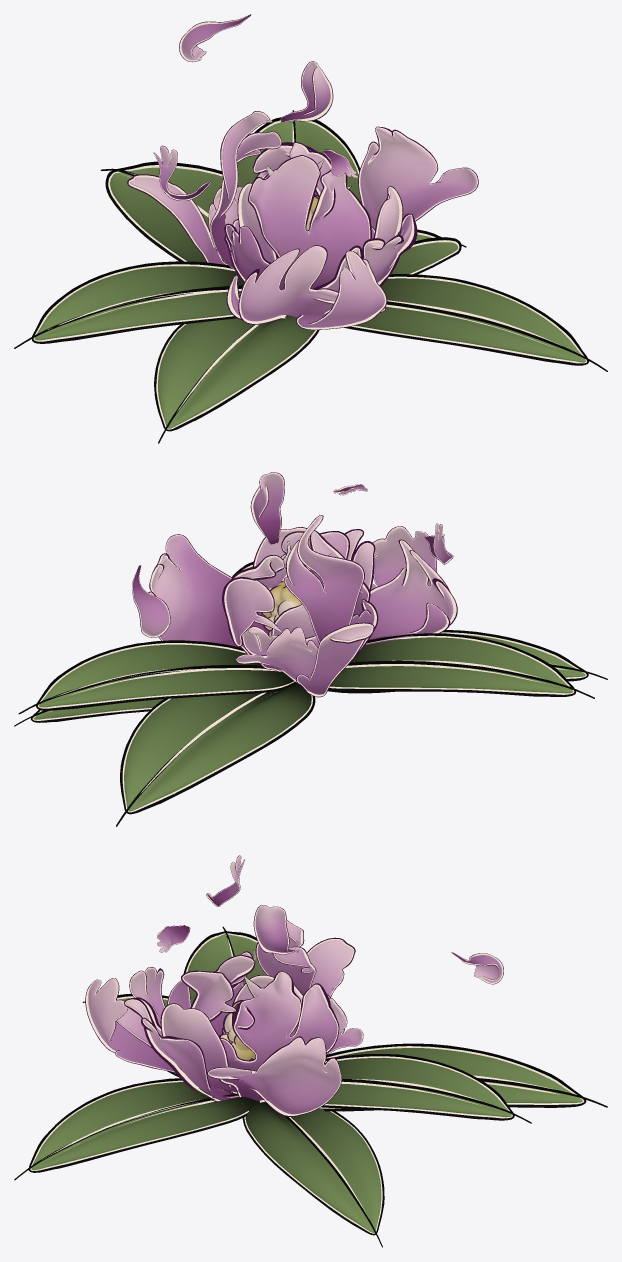
The model's file is flor.gltf.
3 renders of one model, top to bottom at view 1: azimuth 30°, elevation 25°; view 2: azimuth 150°, elevation 25°; view 3: azimuth 270°, elevation 25°, orthographic. The views are drawn at different scales.
Visible parts, largest first — view 1: Leaves_5, Flower_6, Pedal3_4, Pedal4_2, Pedal_1; view 2: Leaves_5, Flower_6, Pedal3_4, Pedal4_2, Pistil_0, Pedal_1; view 3: Leaves_5, Flower_6, Pedal3_4, Pedal4_2, Pistil_0, Pedal_1, Pedal2_3.
Part boxes in pixels (x1,y1,x2,y2): Leaves_5: [14, 110, 607, 443]; Flower_6: [127, 111, 478, 329]; Pedal3_4: [280, 61, 333, 122]; Pedal4_2: [179, 14, 251, 62]; Pedal_1: [153, 145, 211, 200]; Leaves_5: [14, 561, 607, 826]; Flower_6: [148, 515, 457, 697]; Pedal3_4: [250, 472, 284, 544]; Pedal4_2: [132, 565, 170, 637]; Pistil_0: [261, 580, 301, 637]; Pedal_1: [424, 523, 453, 564]; Leaves_5: [14, 926, 607, 1247]; Flower_6: [85, 919, 363, 1116]; Pedal3_4: [253, 905, 298, 954]; Pedal4_2: [451, 952, 503, 984]; Pistil_0: [219, 1000, 255, 1060]; Pedal_1: [206, 855, 244, 906]; Pedal2_3: [157, 925, 190, 952].
Size of the model in its own units: 0.576 by 0.2853 by 0.616.
Materials: 7 (4 with a texture image).
